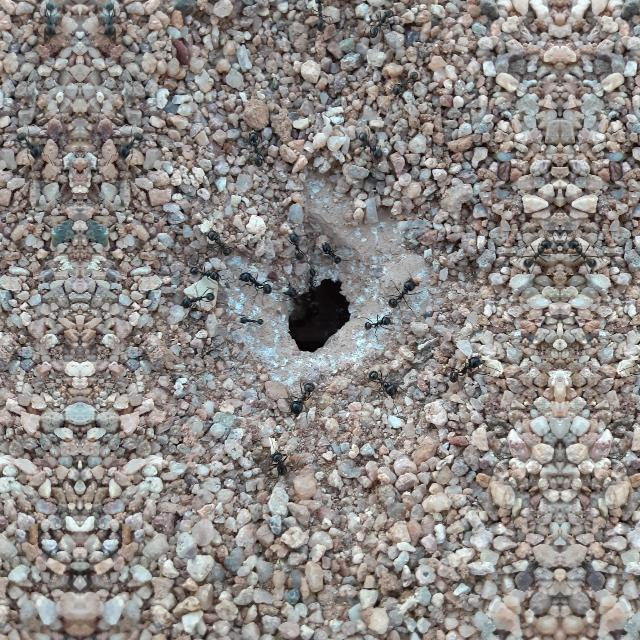Messor: (449, 351, 495, 392), (349, 121, 389, 167), (278, 372, 314, 422), (377, 282, 429, 316), (360, 366, 406, 404), (356, 2, 396, 44), (358, 316, 402, 344), (112, 130, 148, 164), (12, 130, 48, 164), (246, 130, 272, 170), (394, 62, 422, 98), (522, 233, 548, 271), (572, 233, 598, 271), (204, 228, 232, 258), (237, 309, 283, 327), (176, 293, 220, 311), (288, 232, 310, 266), (244, 270, 270, 296), (276, 286, 306, 308), (318, 240, 342, 266), (625, 350, 640, 391), (191, 264, 225, 282), (268, 448, 286, 476), (310, 264, 326, 290)
